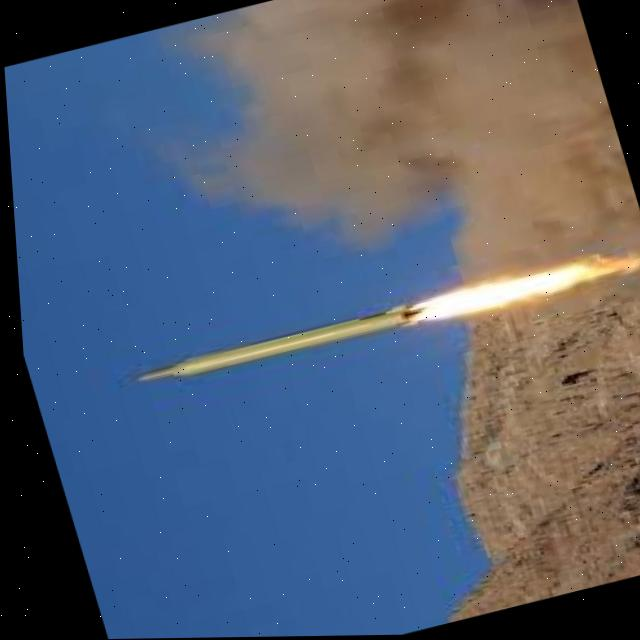missile: (110, 280, 428, 406)
